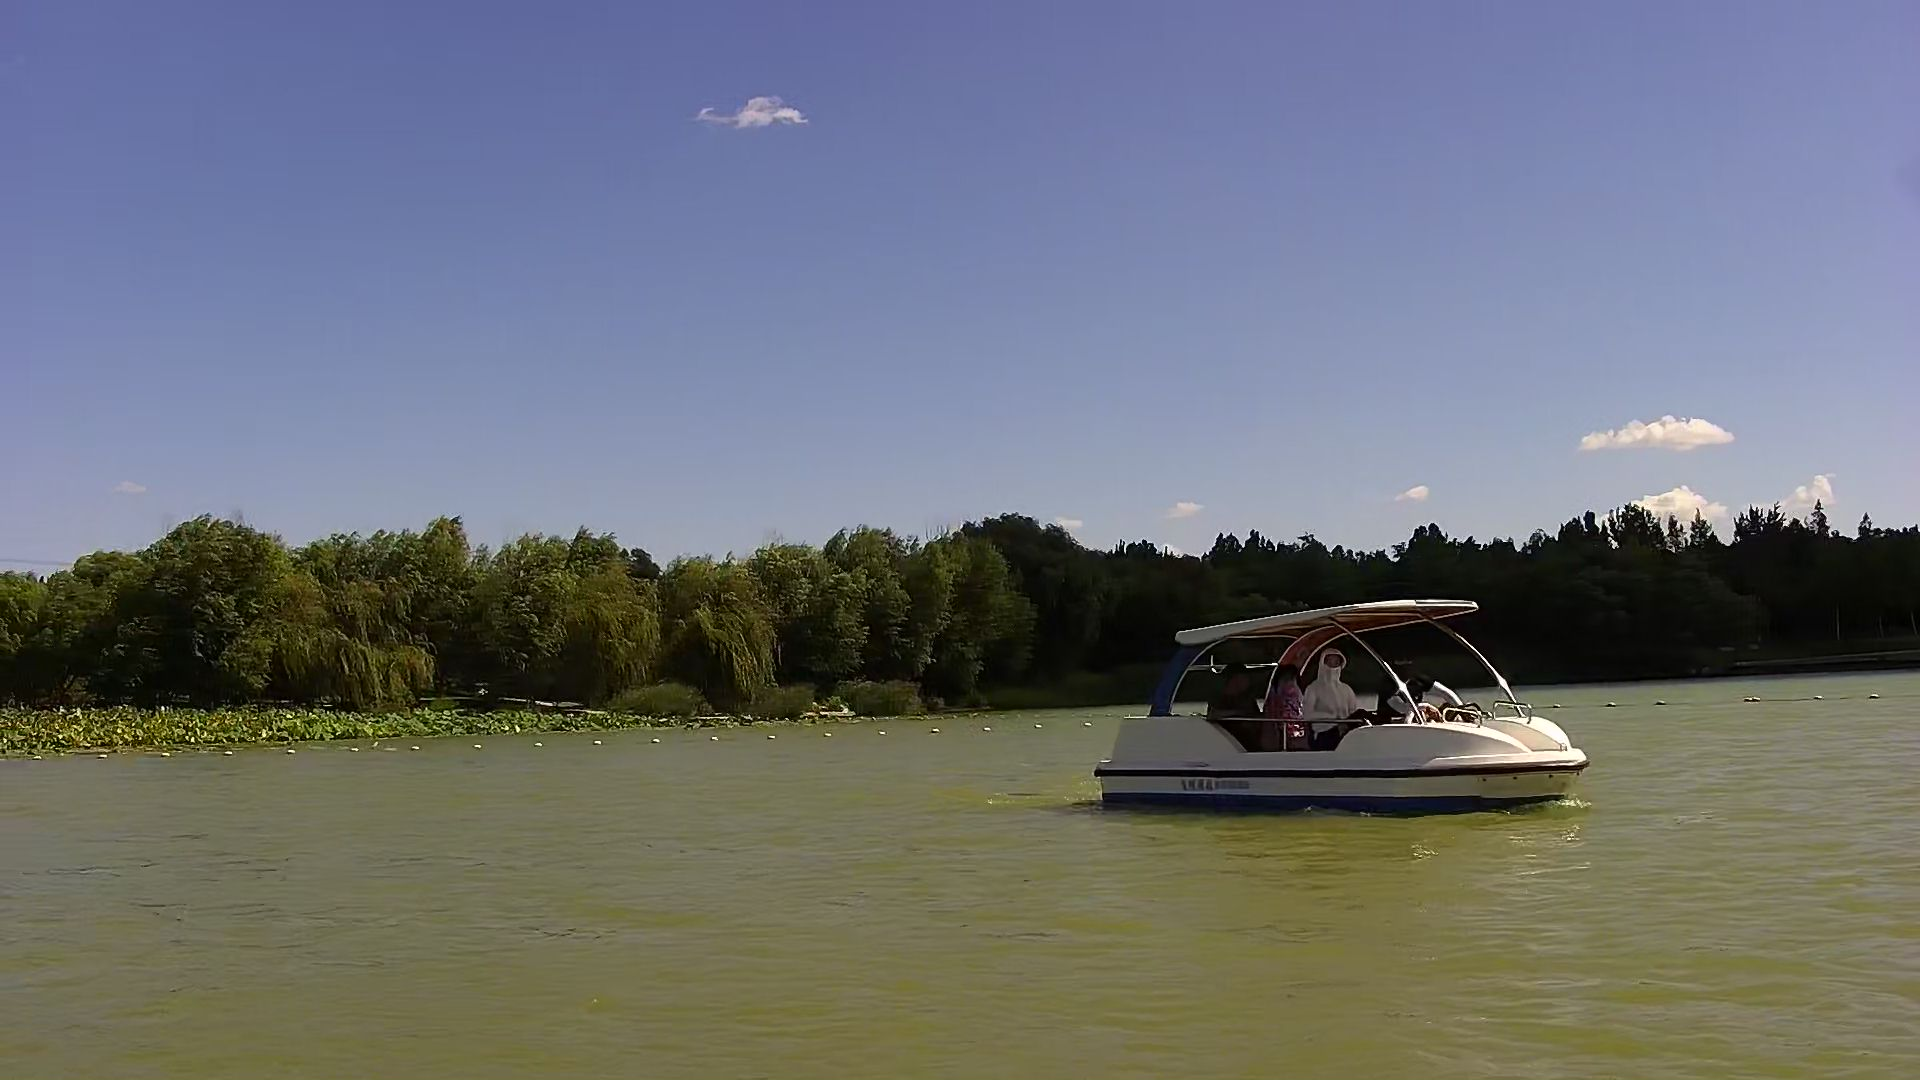boat: (1093, 587, 1604, 818)
